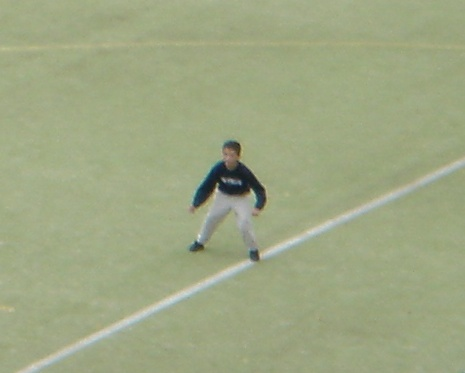person: (201, 141, 256, 264)
